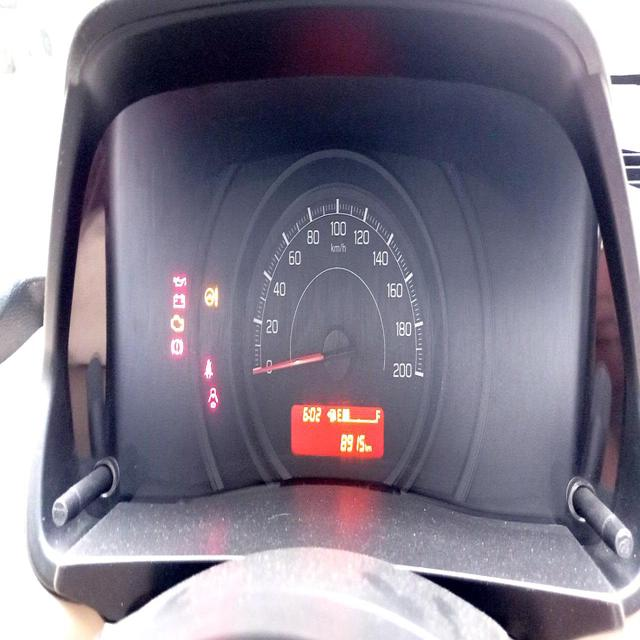odometer: (338, 430, 365, 456)
